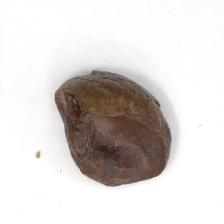NG: (70, 111, 164, 189), (53, 66, 97, 97)
